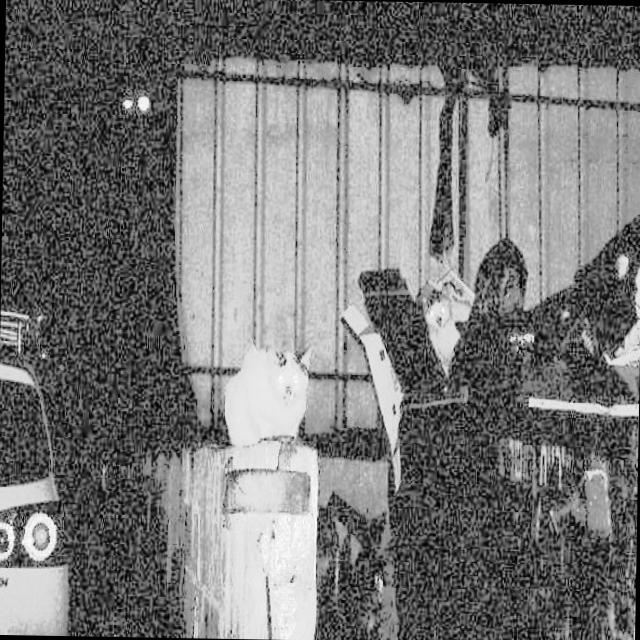Car: (0, 281, 93, 636)
Cat: (217, 338, 316, 456)
